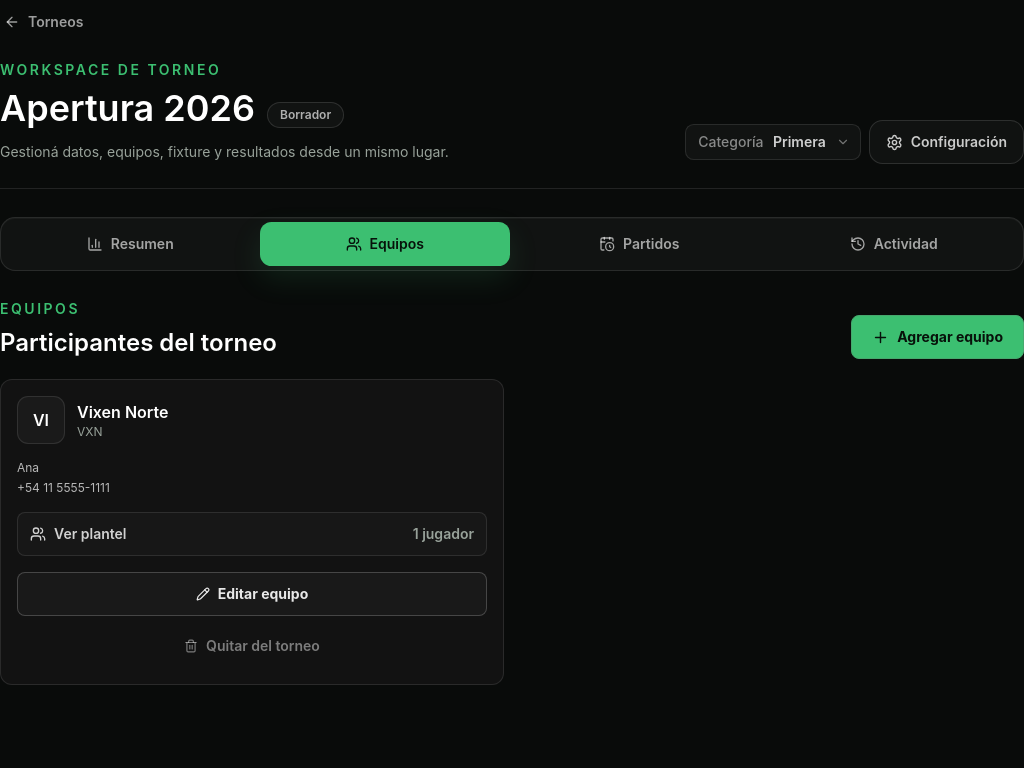
it: AdminTournamentWorkspacePage › keeps tournament work inside a tabbed workspace
The width and height of the screenshot is (1024, 768).
Expected: the heading "Apertura 2026" is shown, [0,88,255,128]
Expected: the heading "Vixen Norte" is shown, [77,400,168,424]
Click the button "Ver plantel 1 jugador" at point(90, 534), box [17,512,487,556]
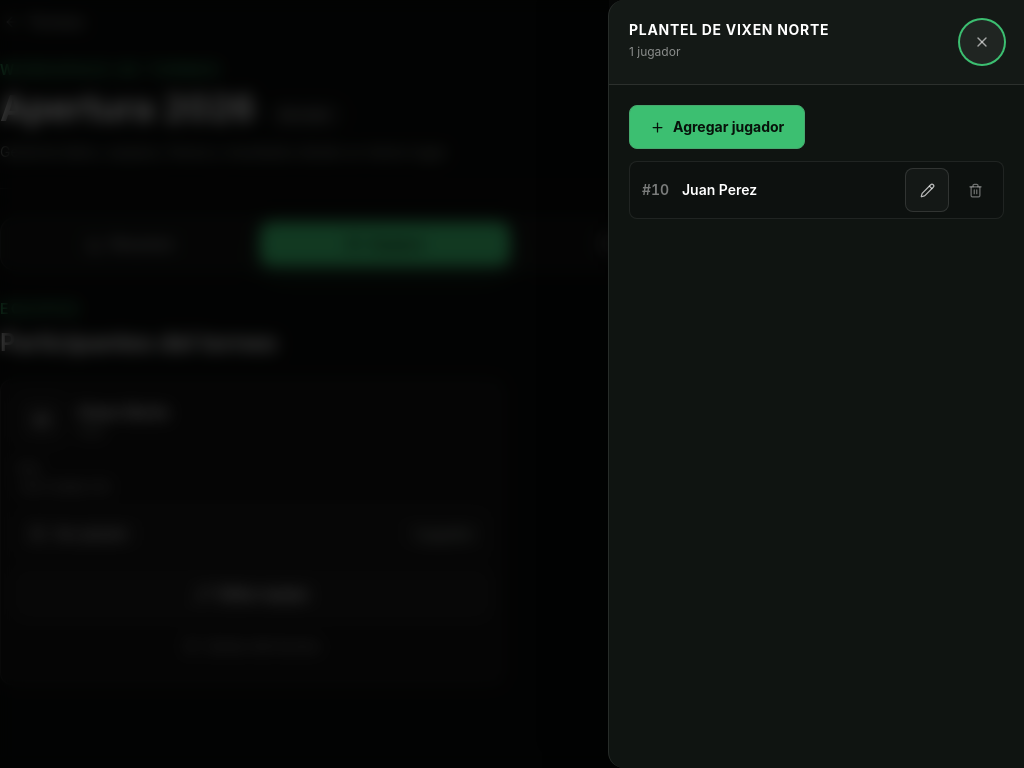
Expected: the dialog "Plantel de Vixen Norte" is shown, [608,0,1023,767]
Expected: the text "Juan Perez" is shown, [682,181,757,198]
Expected: the text "#10" is shown, [642,181,669,198]
